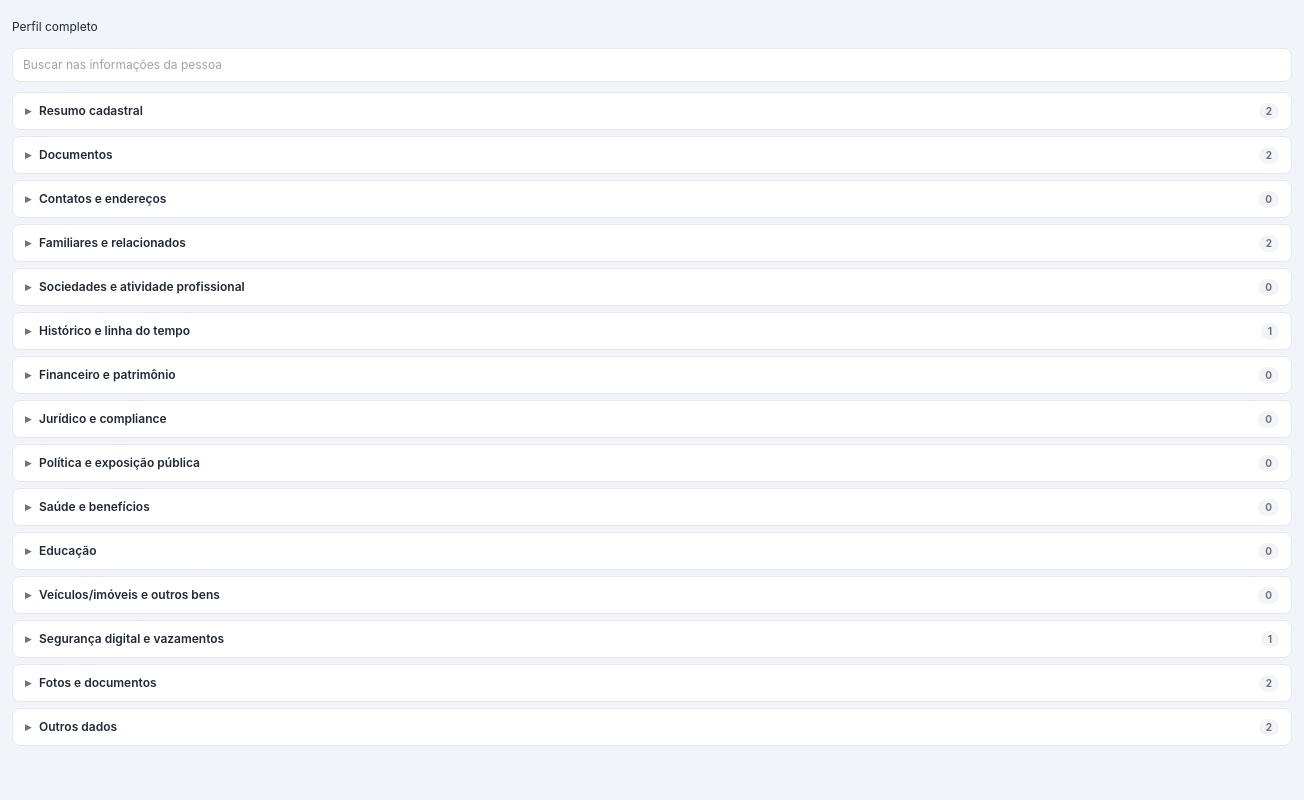
Scenario: PersonProfilePanel — Etapa 2 (categorias, busca, formatação segura) › 17. contadores batem com a quantidade de registros
Step 1. Click the button "▸ Familiares e relacionados 2" → (112, 242), box [13,225,1291,261]
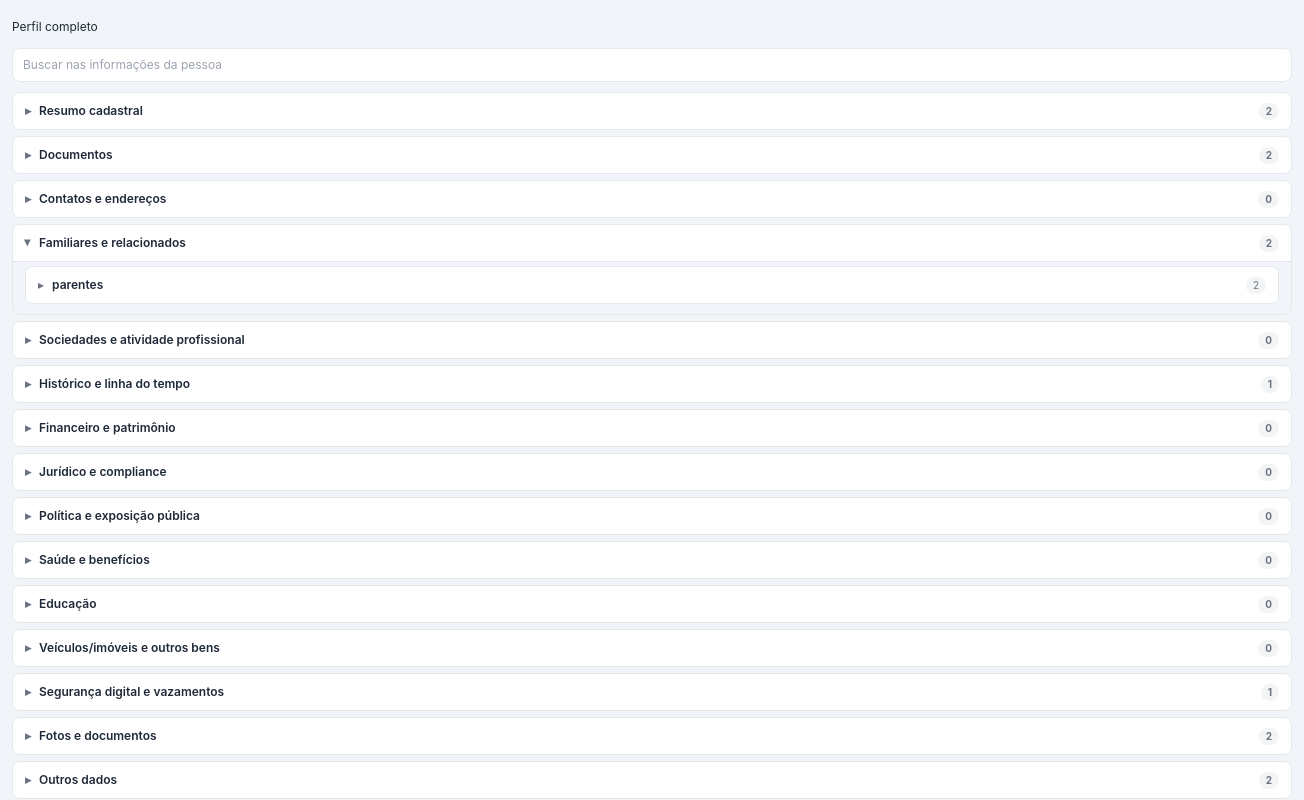
Expected: the button "▸ parentes 2" is shown, [26,267,1278,303]
